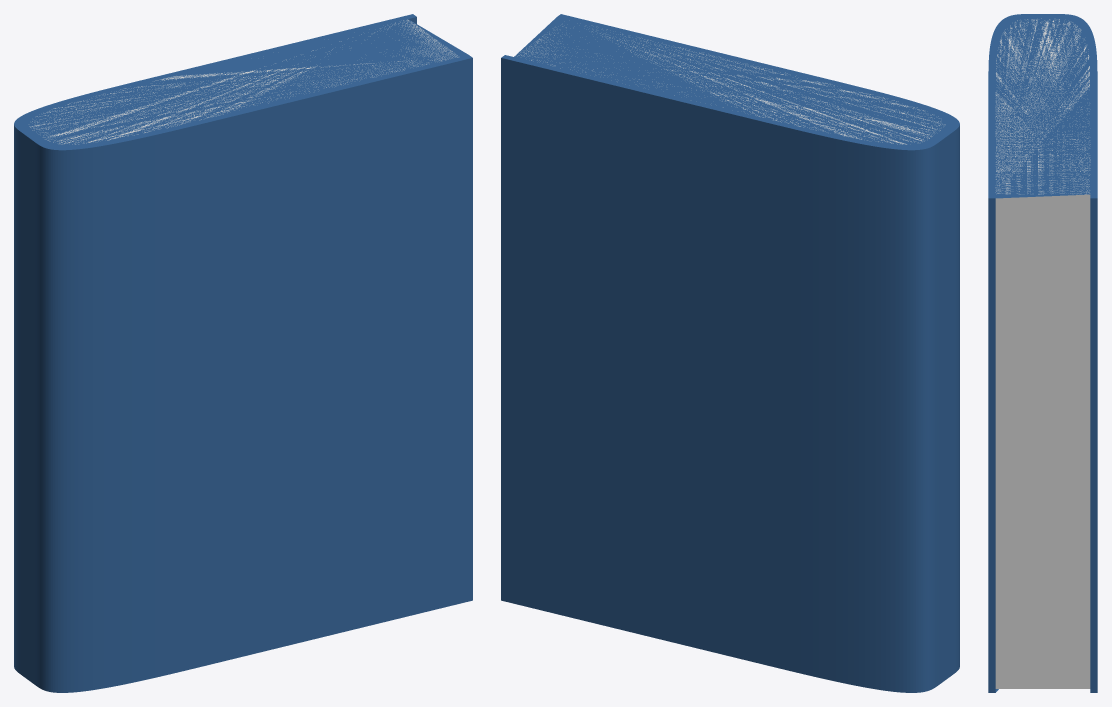
The model's file is book_5.fbx.
3 renders of one model, left to right at view 1: azimuth 30°, elevation 25°; view 2: azimuth 150°, elevation 25°; view 3: azimuth 270°, elevation 25°, orthographic. The views are drawn at different scales.
Parts seen in each view (by area): view 1: Case, Page; view 2: Case, Page; view 3: Page, Case.
Part boxes in pixels (x1,y1,x2,y2): Case: (14, 14, 472, 692); Page: (29, 19, 458, 144); Case: (501, 14, 959, 692); Page: (517, 26, 945, 144); Page: (995, 18, 1090, 688); Case: (988, 14, 1097, 692).
Size of the model in its own units: 80 by 100 by 20.
